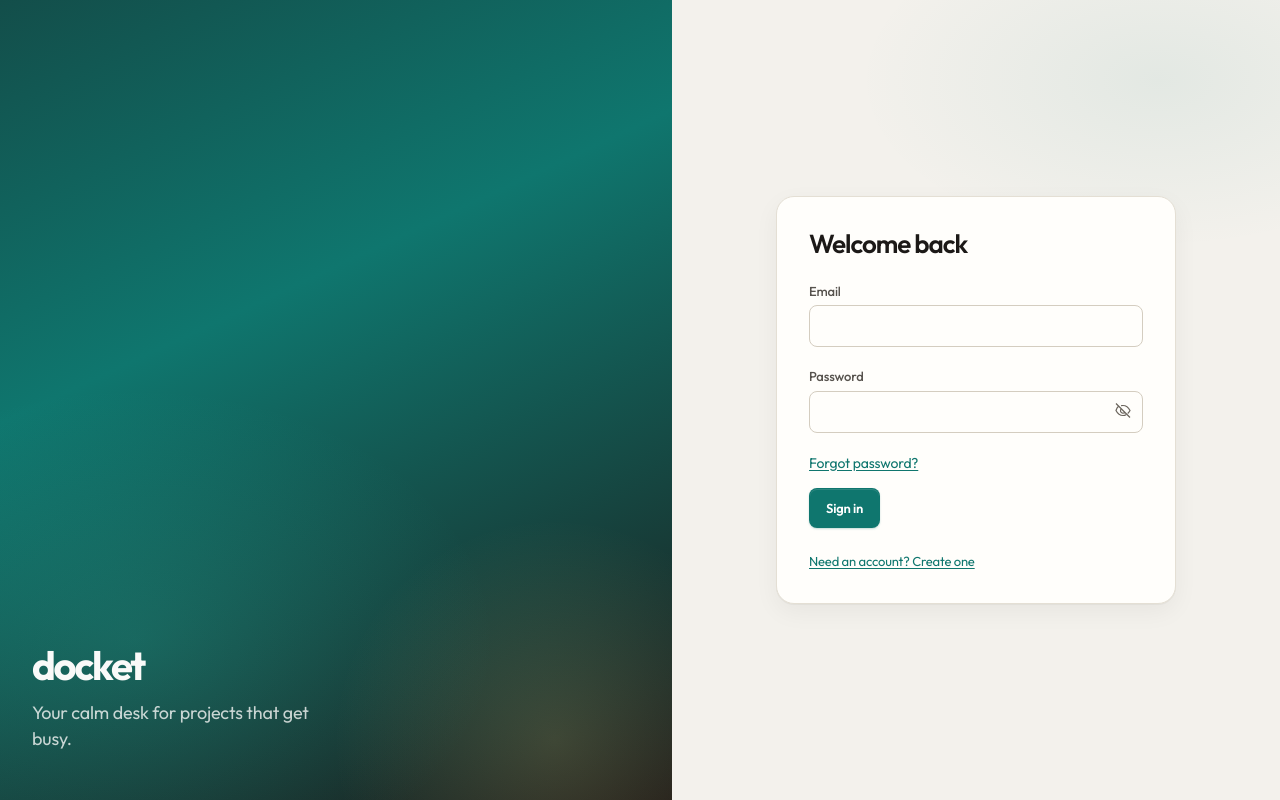
Test: LoginPage › shows an error and returns to clickable state when resend verification fails
In the field labelled "Email": (976, 326) [809,305,1143,347], type "ana@example.com"
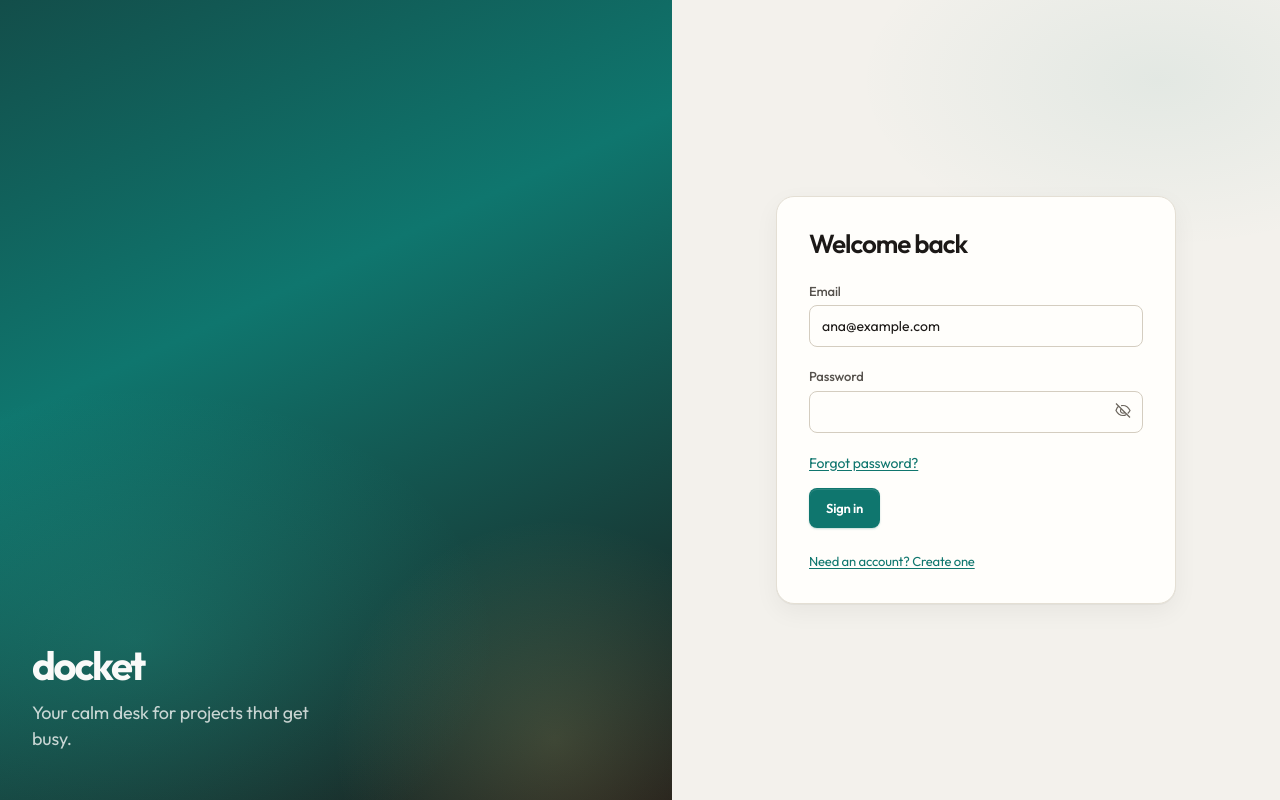
In the password field labelled "Password": (976, 412) [809,391,1143,433], type "password123"
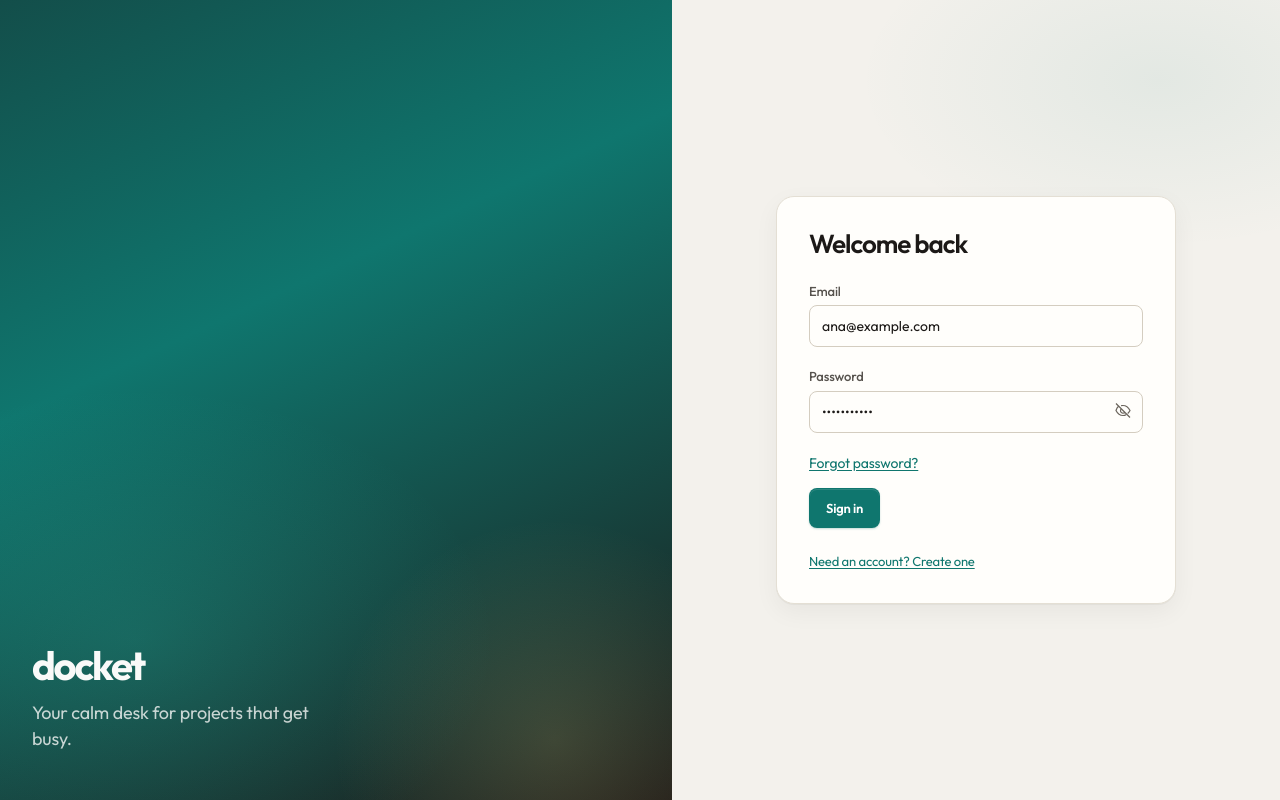
Click the button "Sign in": click(845, 508) [809,488,880,528]
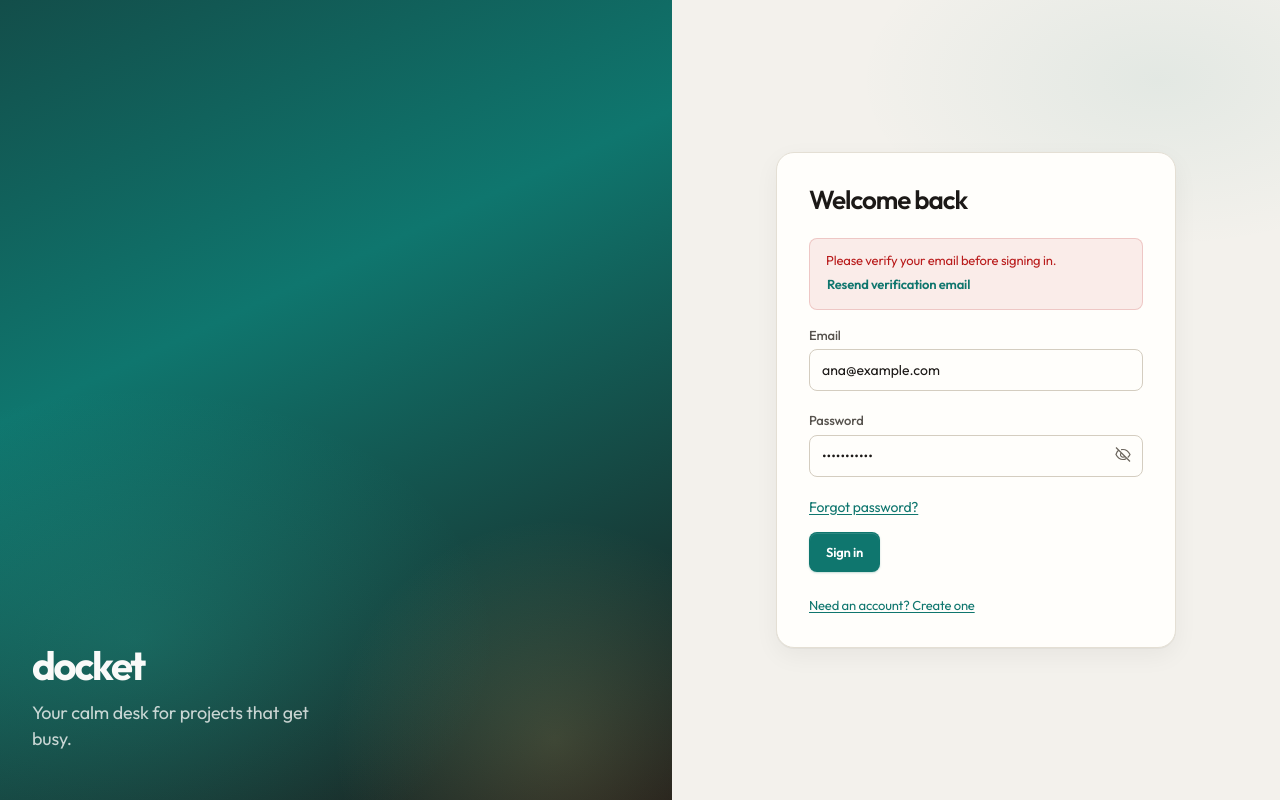
Expected: the text "Resend verification email" is shown, [827,276,970,292]
Click the button "Resend verification email": click(899, 284) [826,270,971,296]
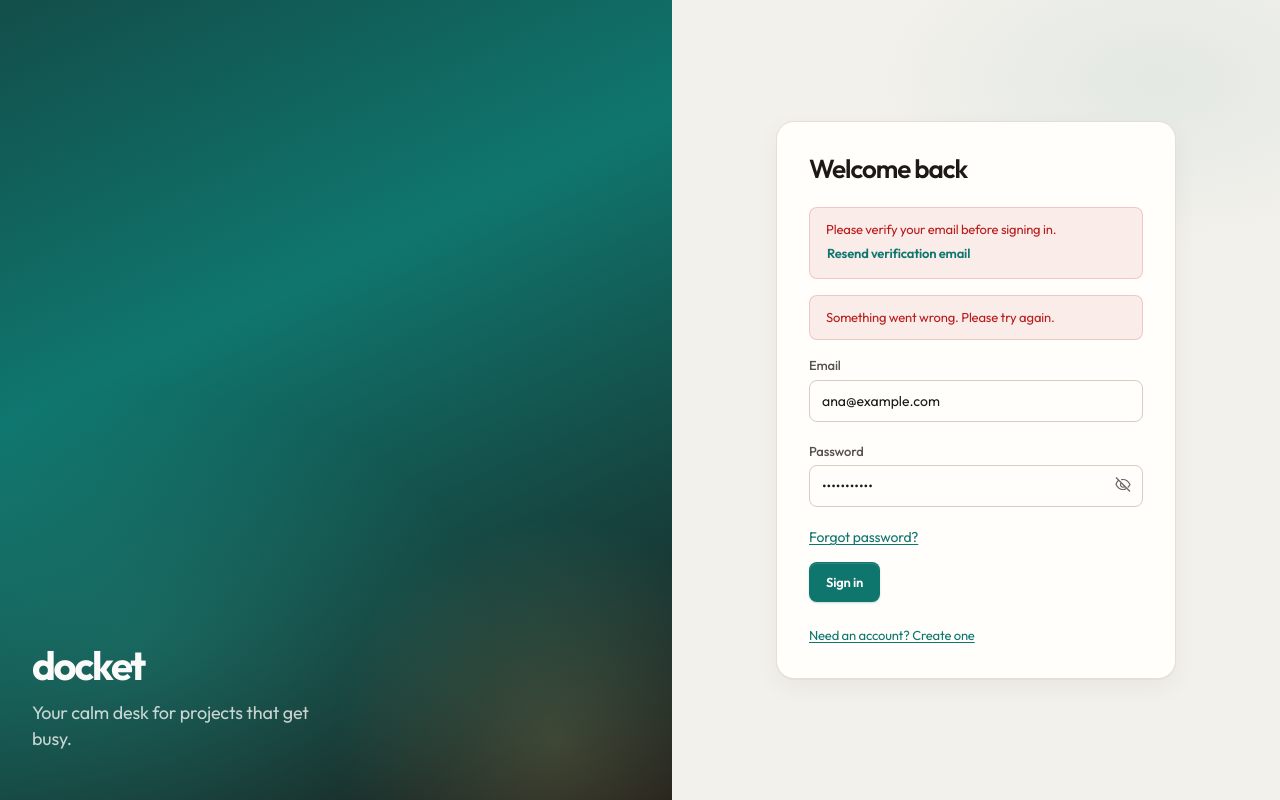
Expected: the text "Something went wrong. Please try again." is shown, [809,295,1143,340]
